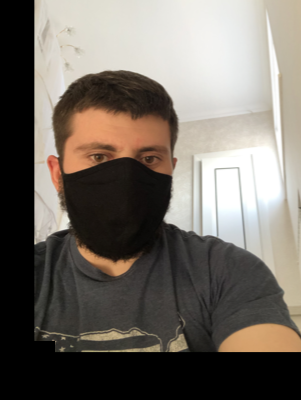with_mask: (61, 129, 174, 263)
